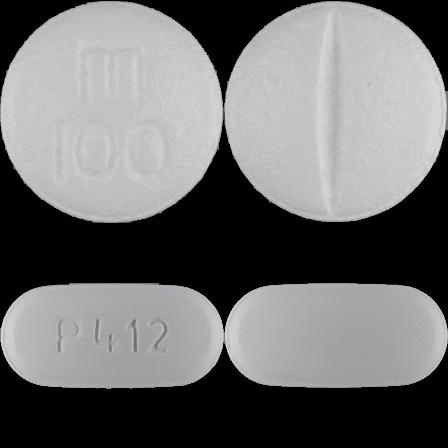49884-406: (0, 0, 224, 224)
